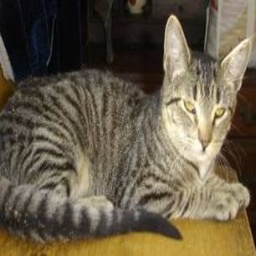cat: (0, 24, 255, 238)
